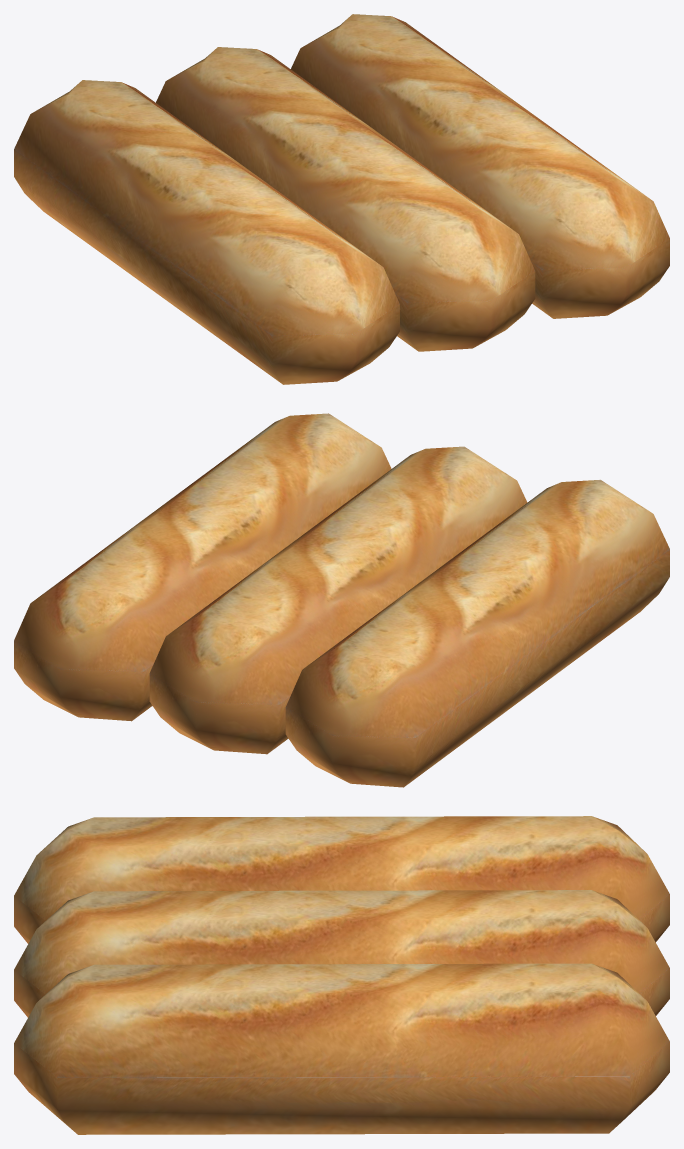
File: baguettepile.fbx
3 renders of one model, top to bottom at view 1: azimuth 30°, elevation 25°; view 2: azimuth 150°, elevation 25°; view 3: azimuth 270°, elevation 25°, orthographic. The views are drawn at different scales.
Parts seen in each view (by area): view 1: Baguette.002; view 2: Baguette.002; view 3: Baguette.002.
Part boxes in pixels (box(x1,y1,x2,y2)): Baguette.002: box(14, 14, 669, 384); Baguette.002: box(14, 413, 669, 787); Baguette.002: box(14, 816, 669, 1134).
Size of the model in its own units: 97.1 by 27.22 by 123.
